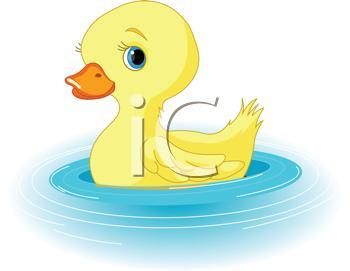bird: (54, 2, 256, 190)
